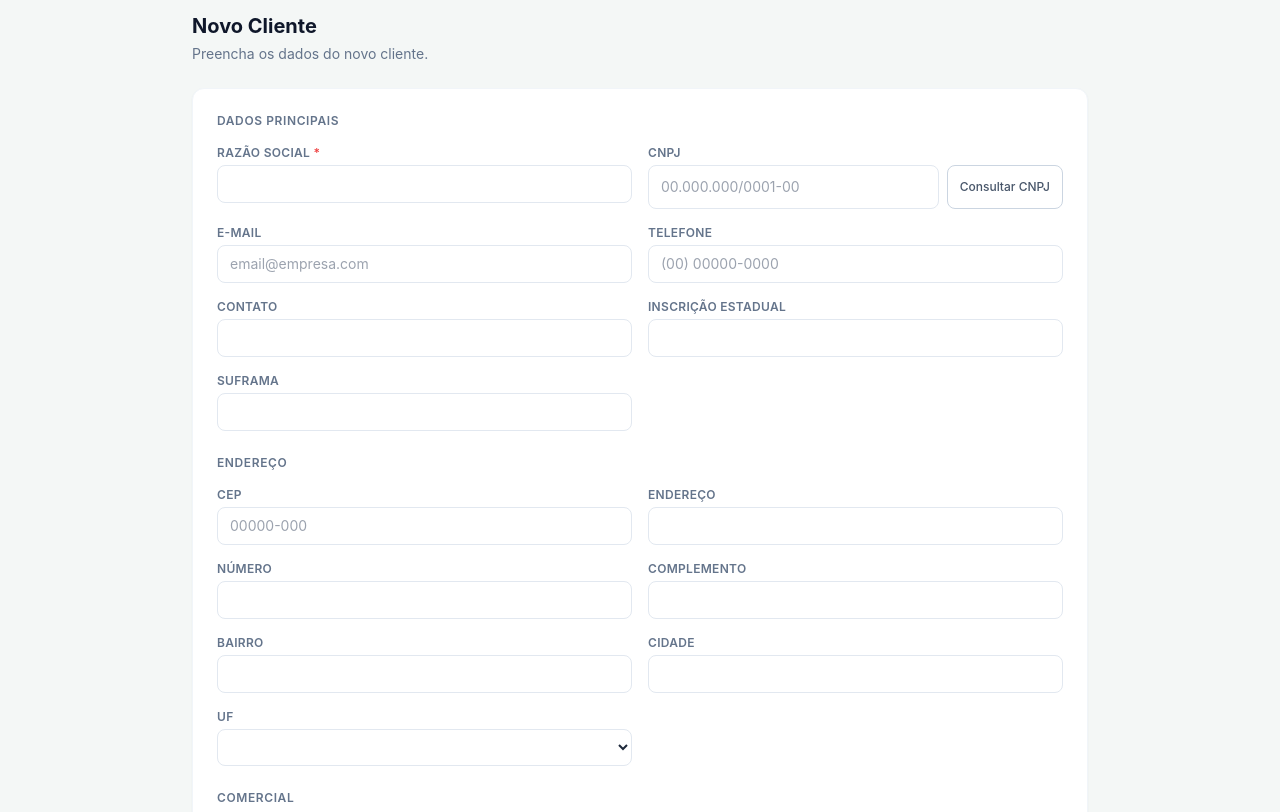
it: ClienteForm — disponibilidade do CNPJ › avisa duplicidade antes de consultar fonte externa
Type "12345678000190" into the field labelled "CNPJ" at (793, 187), box [648,165,939,209]
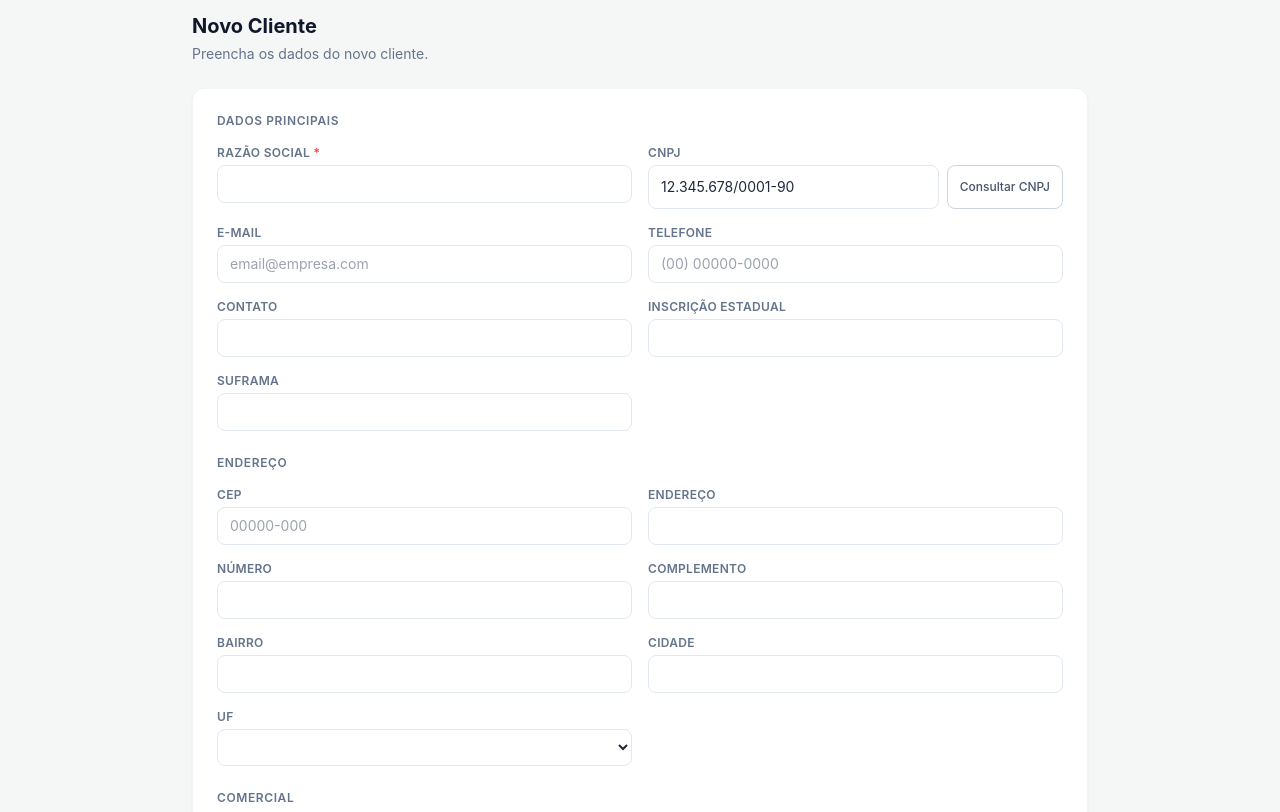
Click the button "Consultar CNPJ" at (1005, 187), box [947,165,1063,209]
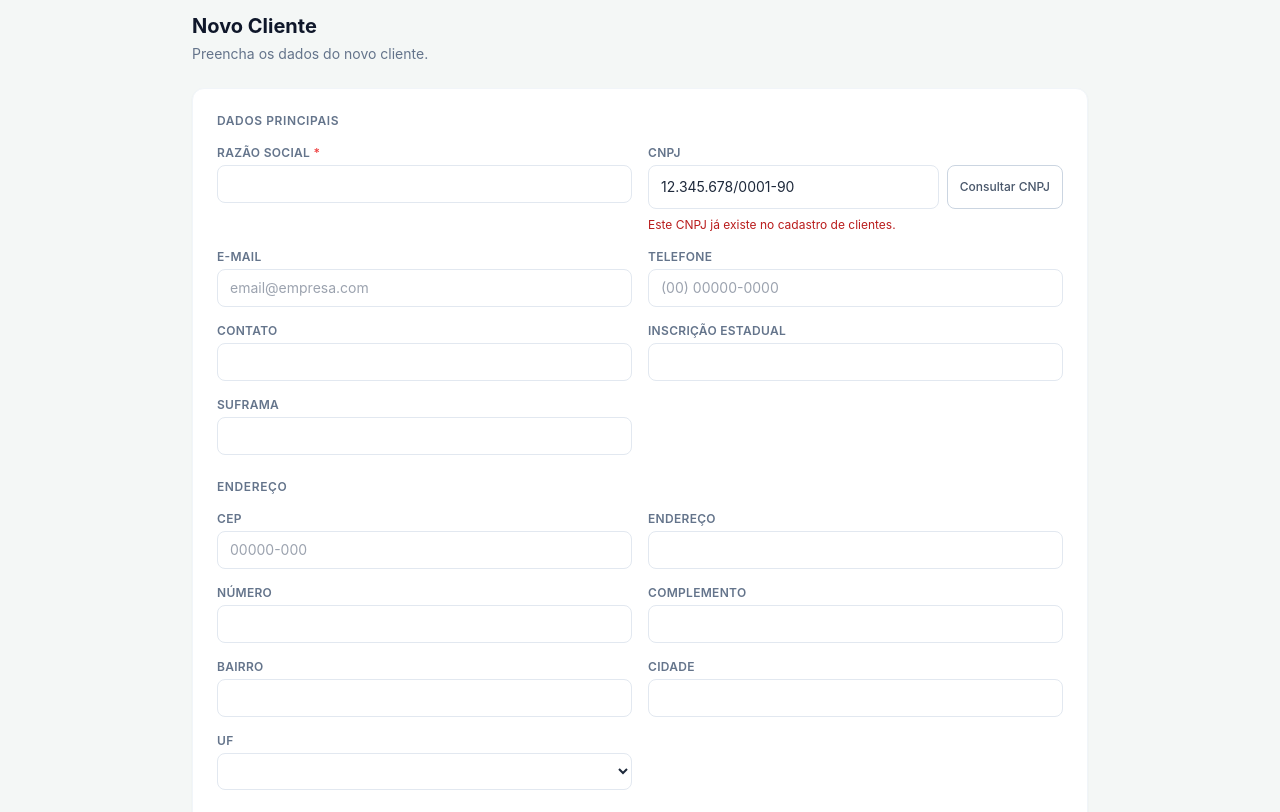
Check: the message reads "Este CNPJ já existe no cadastro de clientes.", box [648,217,896,232]
